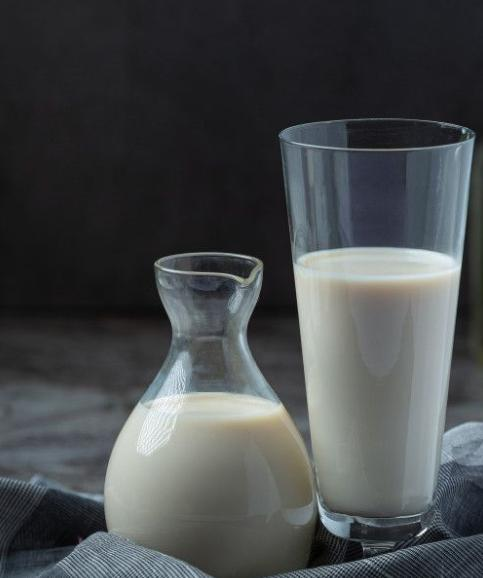produk_susu: (307, 125, 446, 514), (157, 258, 262, 546)
